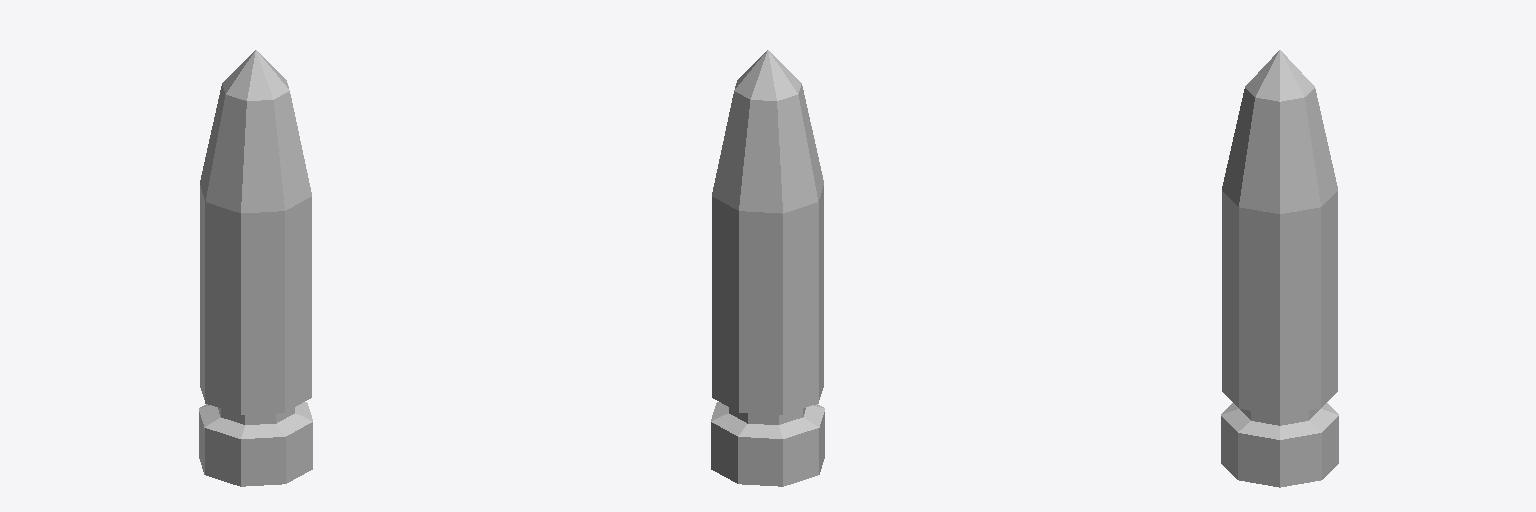
Rendered from Bullet.obj.
The picture shows the model from 3 angles: view 1: azimuth 30°, elevation 25°; view 2: azimuth 150°, elevation 25°; view 3: azimuth 270°, elevation 25°; orthographic projection.
Bounding box in the file's own units: 0.8124 × 3.11 × 0.8124.